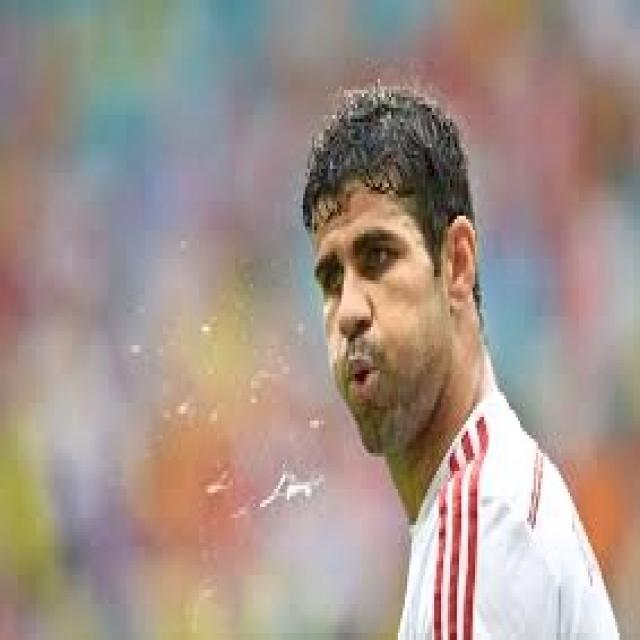Spitting: (281, 92, 477, 524)
